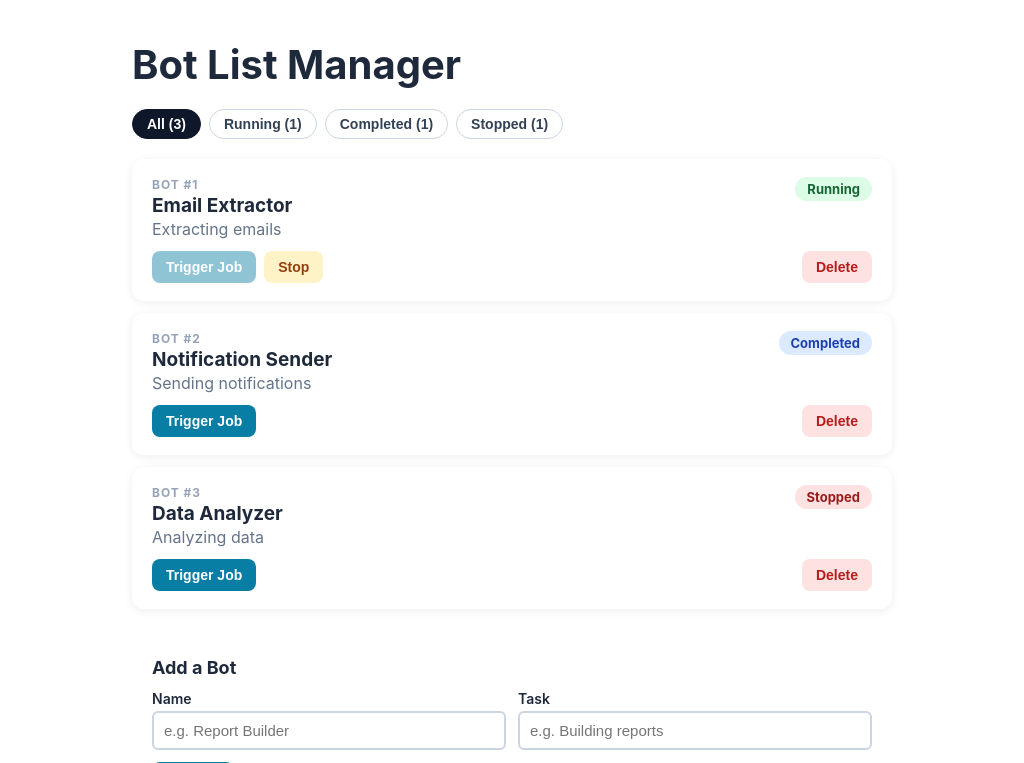
Test: filters by status
This screenshot has width=1024, height=763.
Click the button "Completed (1)".
click(386, 124)  # box [325,109,448,139]
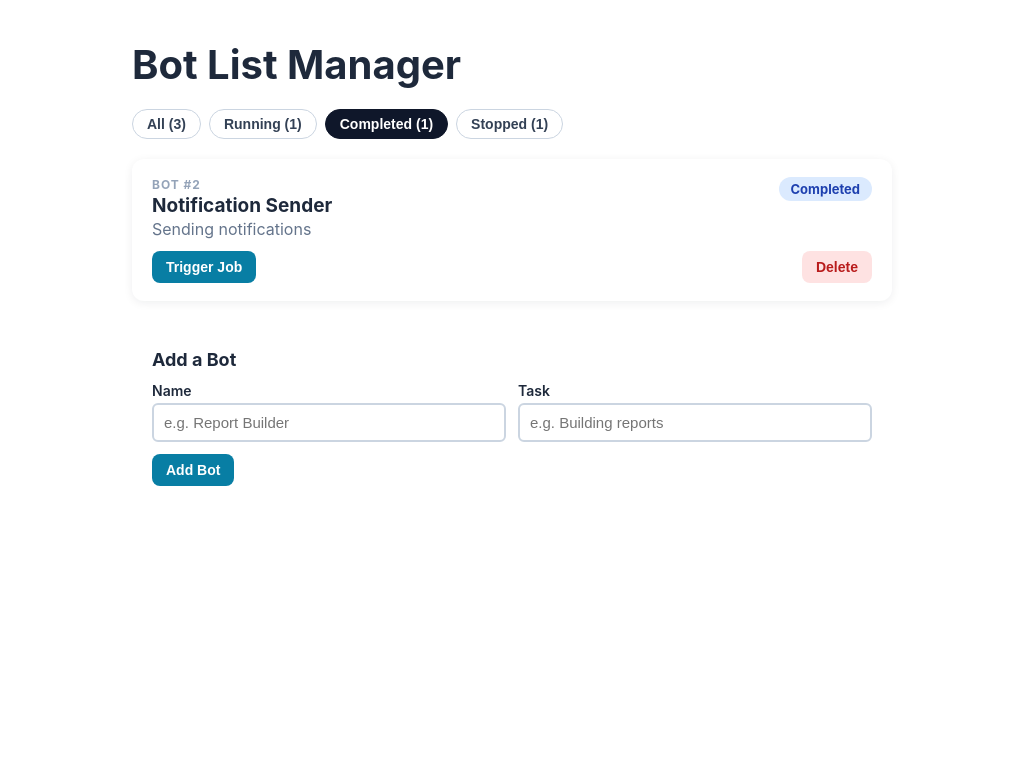
Expected: the heading "Notification Sender" is shown, [152,194,332,217]
Expected: the number of list items is 1, [132,159,892,301]
